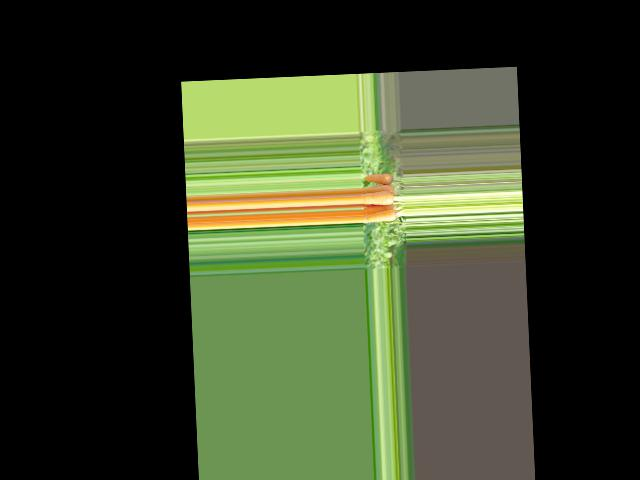carrot: (359, 170, 393, 187)
